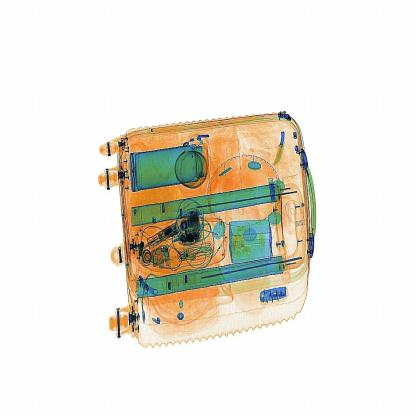wrench: (272, 132, 290, 172)
